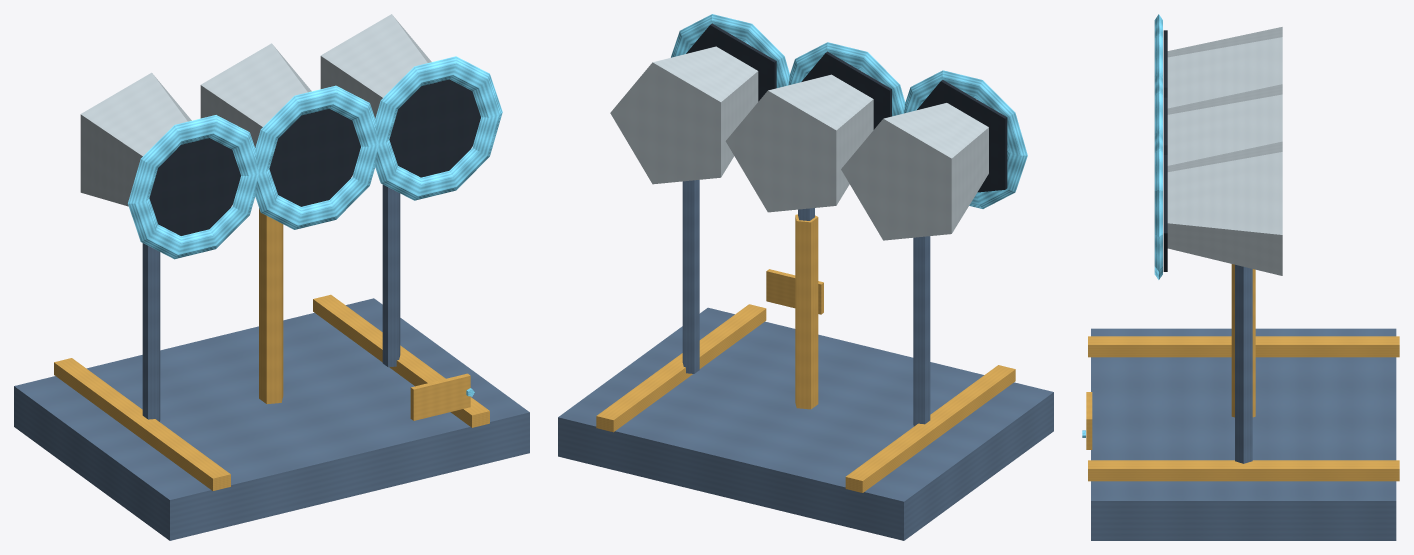
File: atlas100-s056-a02.lod1.glb
3 views of the same model, side by side, from view 1: azimuth 30°, elevation 25°; view 2: azimuth 150°, elevation 25°; view 3: azimuth 270°, elevation 25° (orthographic). The views are drawn at different scales.
Parts seen in each view (by area): view 1: atlas100-s056-a02:part-000, atlas100-s056-a02:part-006, atlas100-s056-a02:part-008, atlas100-s056-a02:part-016, atlas100-s056-a02:part-012, atlas100-s056-a02:part-007, atlas100-s056-a02:part-015, atlas100-s056-a02:part-011, atlas100-s056-a02:part-014, atlas100-s056-a02:part-010, atlas100-s056-a02:part-001, atlas100-s056-a02:part-003 (+4 smaller); view 2: atlas100-s056-a02:part-000, atlas100-s056-a02:part-006, atlas100-s056-a02:part-014, atlas100-s056-a02:part-010, atlas100-s056-a02:part-001, atlas100-s056-a02:part-003, atlas100-s056-a02:part-002, atlas100-s056-a02:part-008, atlas100-s056-a02:part-013, atlas100-s056-a02:part-005, atlas100-s056-a02:part-007, atlas100-s056-a02:part-016 (+4 smaller); view 3: atlas100-s056-a02:part-000, atlas100-s056-a02:part-014, atlas100-s056-a02:part-002, atlas100-s056-a02:part-006, atlas100-s056-a02:part-010, atlas100-s056-a02:part-001, atlas100-s056-a02:part-013, atlas100-s056-a02:part-016, atlas100-s056-a02:part-003, atlas100-s056-a02:part-015, atlas100-s056-a02:part-012, atlas100-s056-a02:part-008 (+1 smaller).
Boxes of the visible parts, x1,y1,x2,y2 form: atlas100-s056-a02:part-000: [14, 298, 529, 540]; atlas100-s056-a02:part-006: [80, 72, 191, 206]; atlas100-s056-a02:part-008: [128, 115, 259, 259]; atlas100-s056-a02:part-016: [375, 56, 502, 200]; atlas100-s056-a02:part-012: [255, 85, 379, 229]; atlas100-s056-a02:part-007: [149, 138, 240, 235]; atlas100-s056-a02:part-015: [389, 79, 480, 177]; atlas100-s056-a02:part-011: [269, 108, 360, 206]; atlas100-s056-a02:part-014: [320, 14, 431, 118]; atlas100-s056-a02:part-010: [200, 43, 311, 147]; atlas100-s056-a02:part-001: [54, 358, 230, 490]; atlas100-s056-a02:part-003: [259, 208, 283, 404]; atlas100-s056-a02:part-000: [558, 307, 1053, 540]; atlas100-s056-a02:part-006: [841, 103, 988, 240]; atlas100-s056-a02:part-014: [610, 46, 758, 184]; atlas100-s056-a02:part-010: [725, 74, 873, 212]; atlas100-s056-a02:part-001: [845, 365, 1015, 492]; atlas100-s056-a02:part-003: [795, 214, 818, 409]; atlas100-s056-a02:part-002: [596, 304, 766, 432]; atlas100-s056-a02:part-008: [904, 70, 1027, 208]; atlas100-s056-a02:part-013: [682, 180, 699, 373]; atlas100-s056-a02:part-005: [913, 236, 930, 426]; atlas100-s056-a02:part-007: [917, 80, 1007, 192]; atlas100-s056-a02:part-016: [671, 14, 789, 87]; atlas100-s056-a02:part-000: [1091, 328, 1396, 540]; atlas100-s056-a02:part-014: [1167, 141, 1282, 275]; atlas100-s056-a02:part-002: [1088, 460, 1399, 481]; atlas100-s056-a02:part-006: [1167, 27, 1282, 108]; atlas100-s056-a02:part-010: [1167, 84, 1282, 165]; atlas100-s056-a02:part-001: [1088, 336, 1399, 357]; atlas100-s056-a02:part-013: [1235, 264, 1252, 463]; atlas100-s056-a02:part-016: [1154, 129, 1162, 279]; atlas100-s056-a02:part-003: [1231, 264, 1255, 417]; atlas100-s056-a02:part-015: [1163, 145, 1167, 271]; atlas100-s056-a02:part-012: [1154, 71, 1162, 134]; atlas100-s056-a02:part-008: [1154, 14, 1162, 76].
Size of the model in its own units: 2.5 by 2.43 by 1.87.
Materials: 5 (5 with a texture image).
